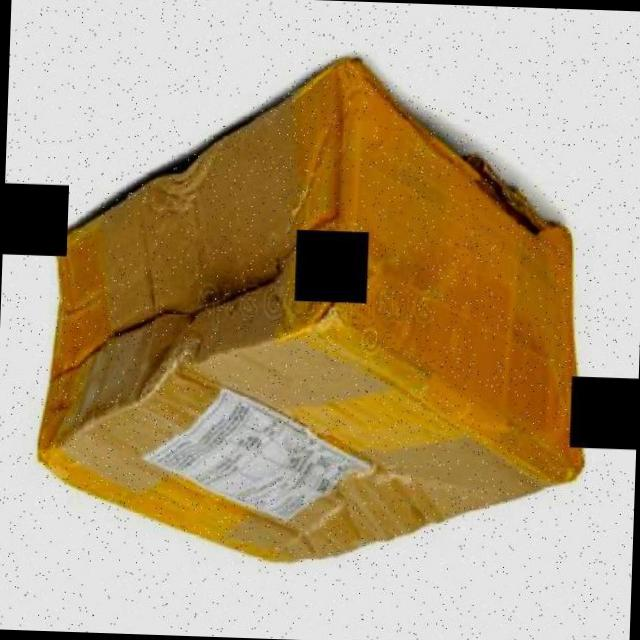box: (23, 41, 634, 588)
